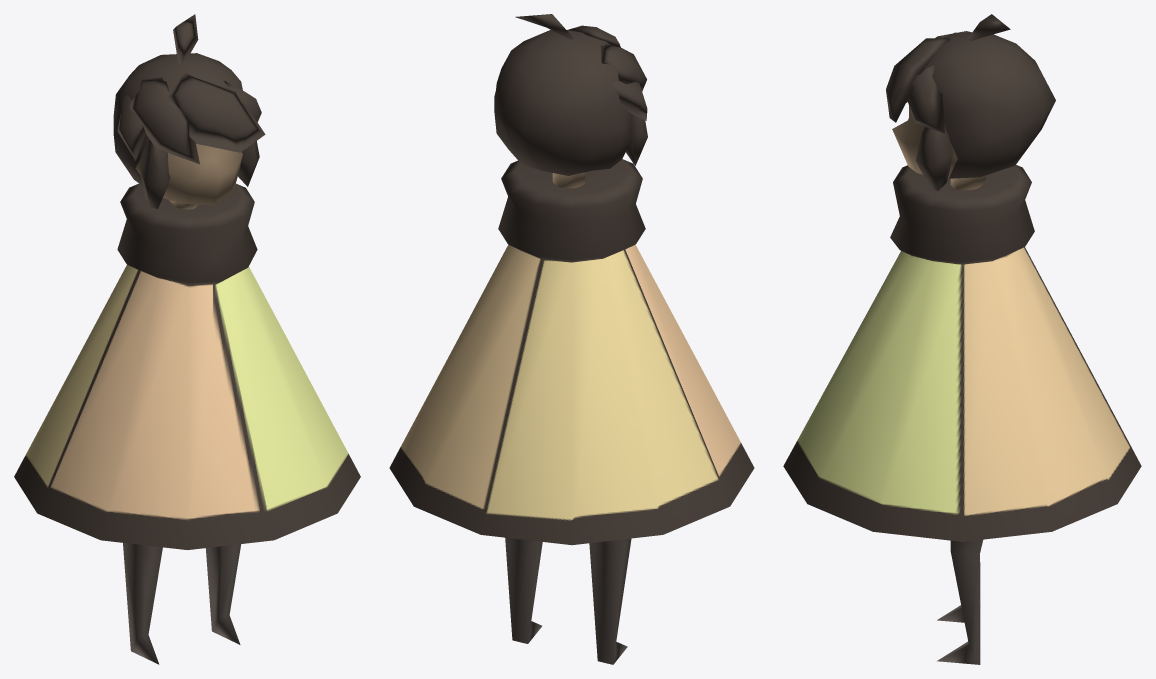
Rendered from LanternCharacter2.fbx.
3 views of the same model, side by side, from view 1: azimuth 30°, elevation 25°; view 2: azimuth 150°, elevation 25°; view 3: azimuth 270°, elevation 25° (orthographic). The views are drawn at different scales.
Parts seen in each view (by area): view 1: pCone7; view 2: pCone7; view 3: pCone7.
Part boxes in pixels (<box>): pCone7: <box>14,14,360,664</box>; pCone7: <box>389,14,754,664</box>; pCone7: <box>783,14,1141,664</box>.
Bounding box in the file's own units: 58.37 × 113 × 58.37.
